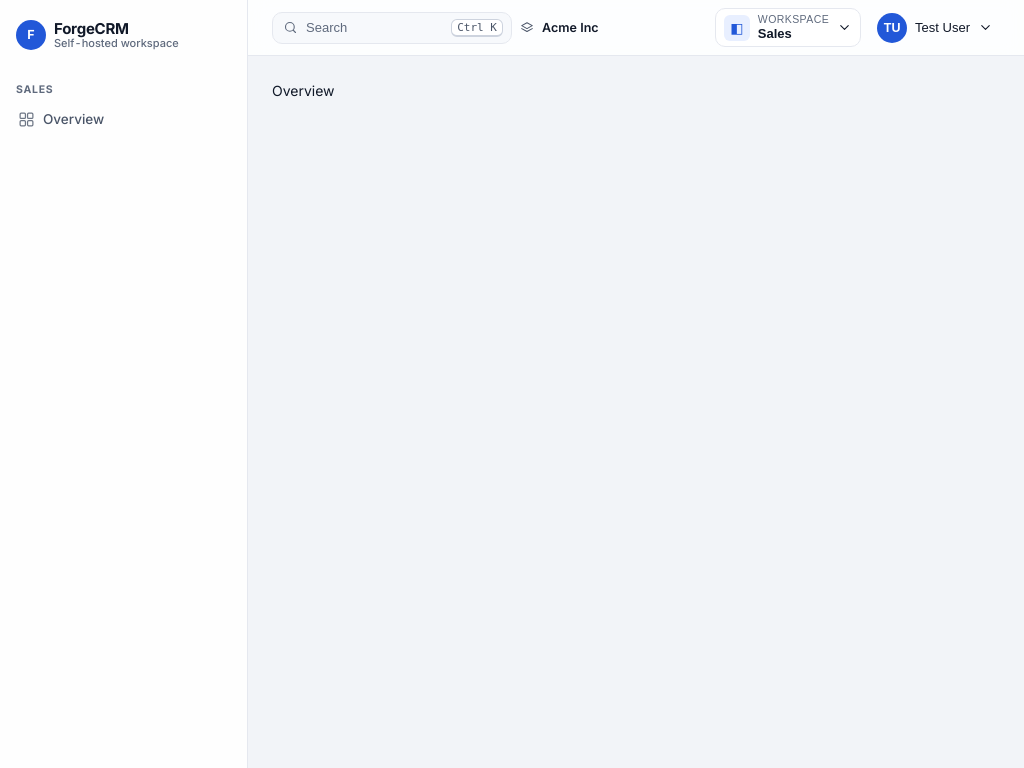
Test: workspaces › never shows a route the user cannot read, even inside a workspace
Click the button with aria-label "switch workspace": (788, 28) top-left (715, 8), bottom-right (861, 47)
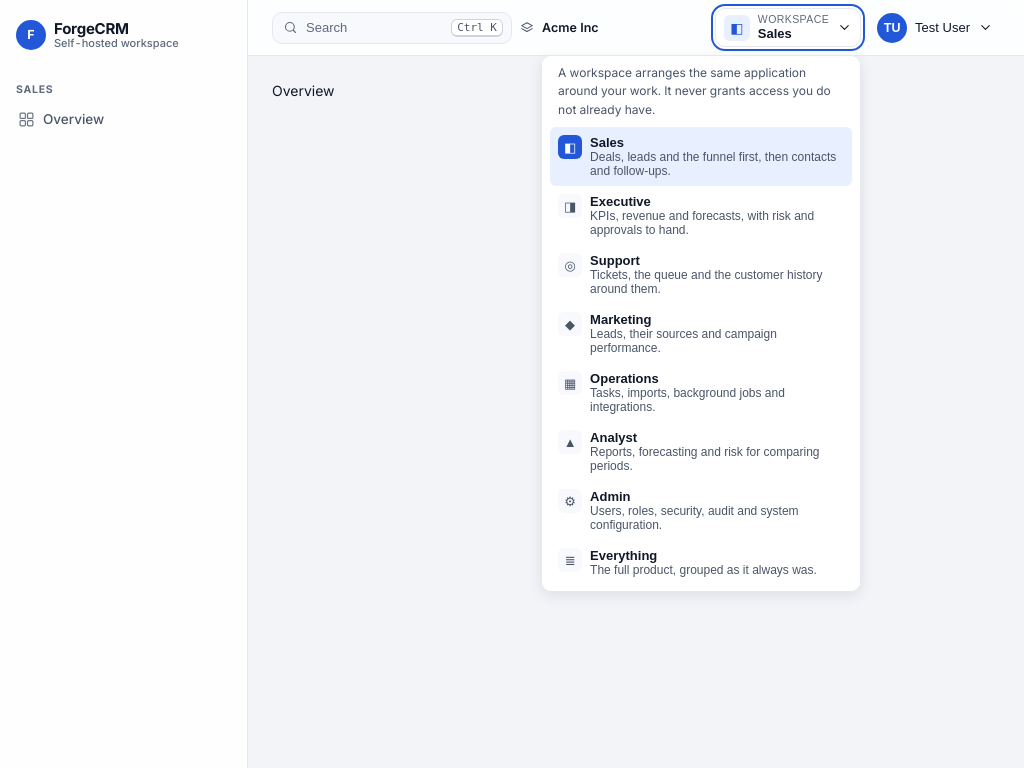
Click the button "Sales": (701, 157) top-left (550, 127), bottom-right (852, 186)
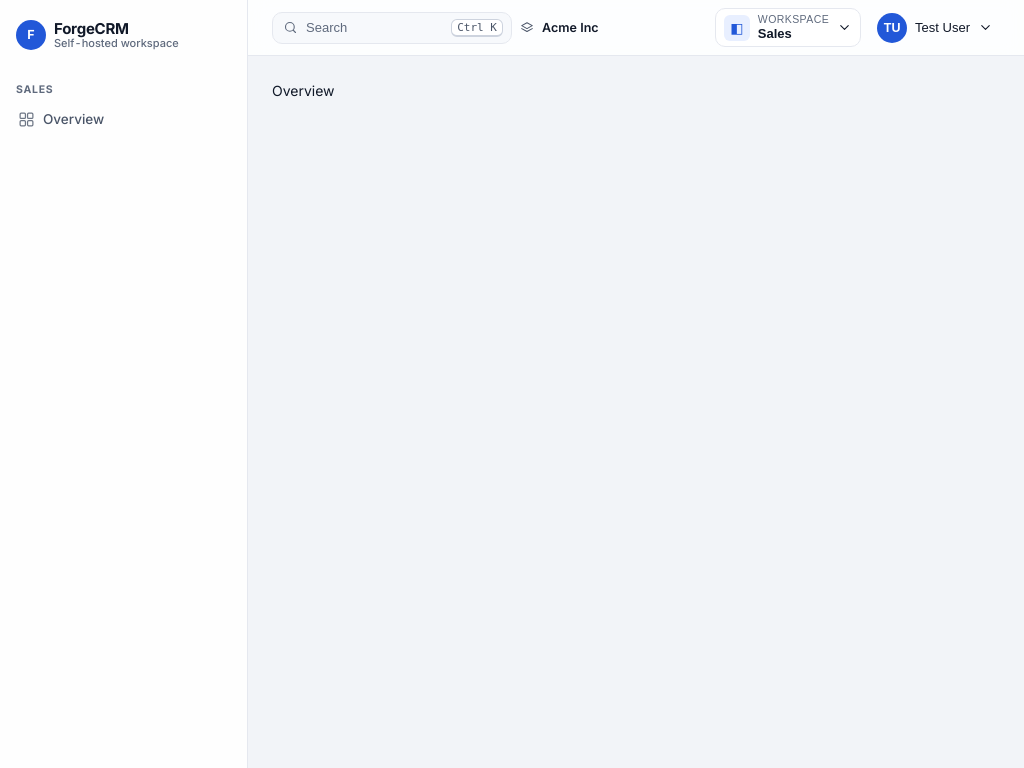
Now the button "Deals" is gone
